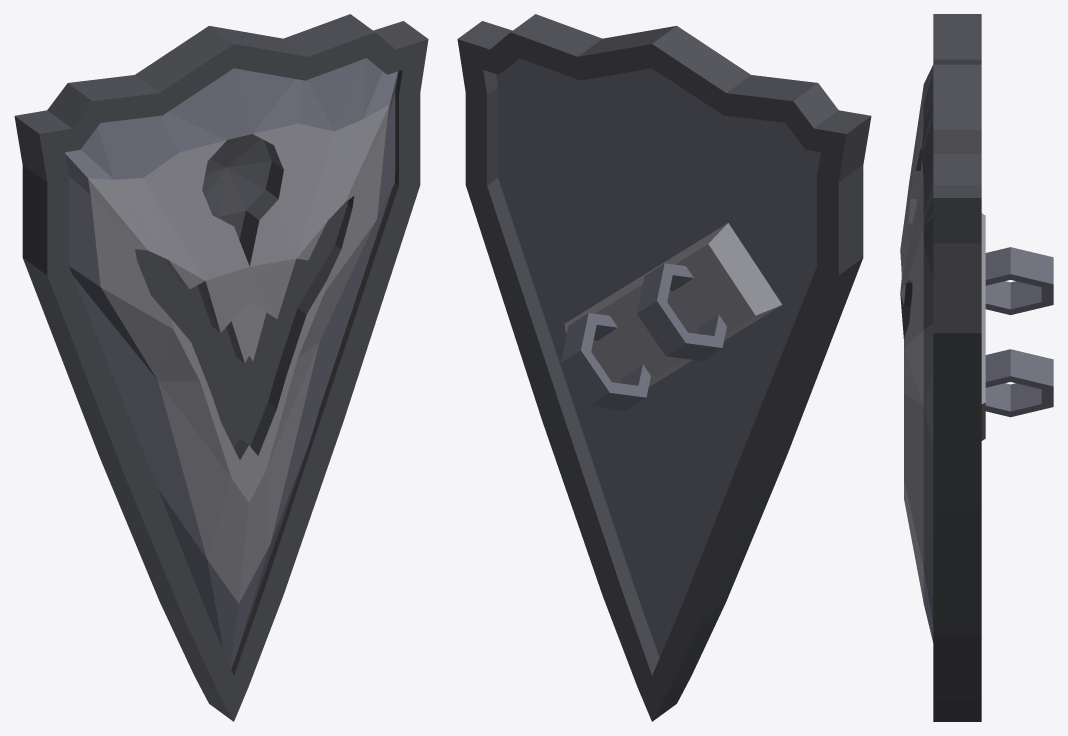
Rendered from _Shield_9.fbx.
The picture shows the model from 3 angles, left to right: view 1: azimuth 30°, elevation 25°; view 2: azimuth 150°, elevation 25°; view 3: azimuth 270°, elevation 25°; orthographic projection. The views are drawn at different scales.
Parts seen in each view (by area): view 1: Shield_9; view 2: Shield_9; view 3: Shield_9.
Boxes of the visible parts, x1,y1,x2,y2 form: Shield_9: [14, 14, 428, 721]; Shield_9: [457, 14, 871, 721]; Shield_9: [900, 14, 1053, 721].
Size of the model in its own units: 64.97 by 108 by 22.89.
